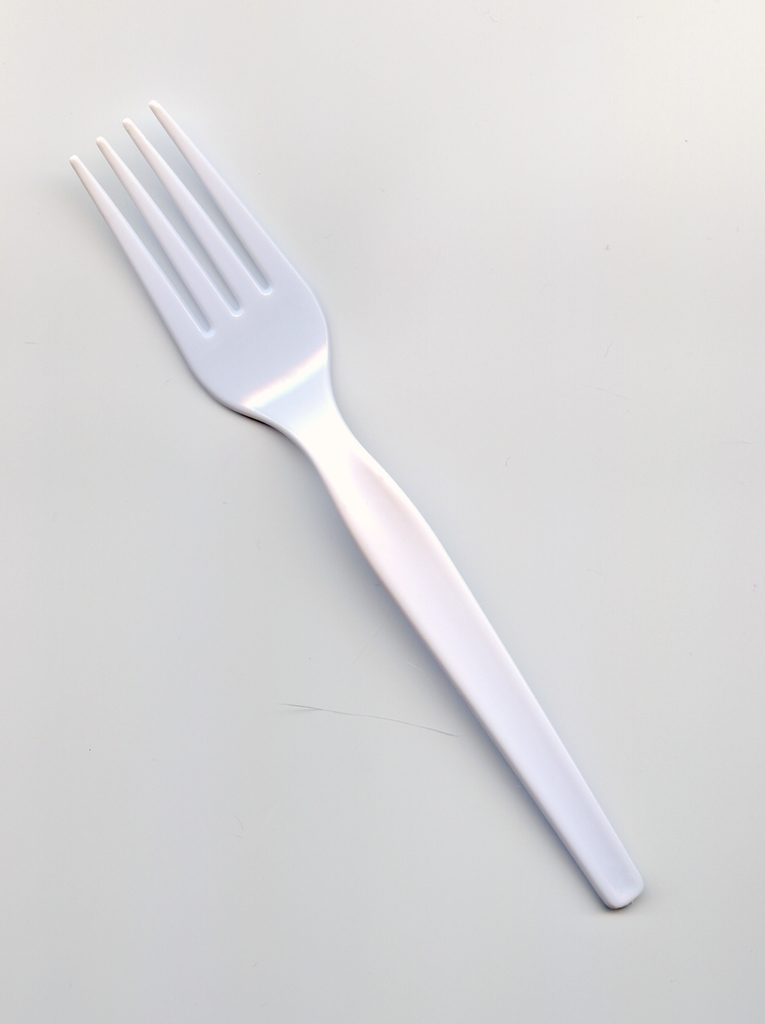fork: (69, 99, 644, 909)
